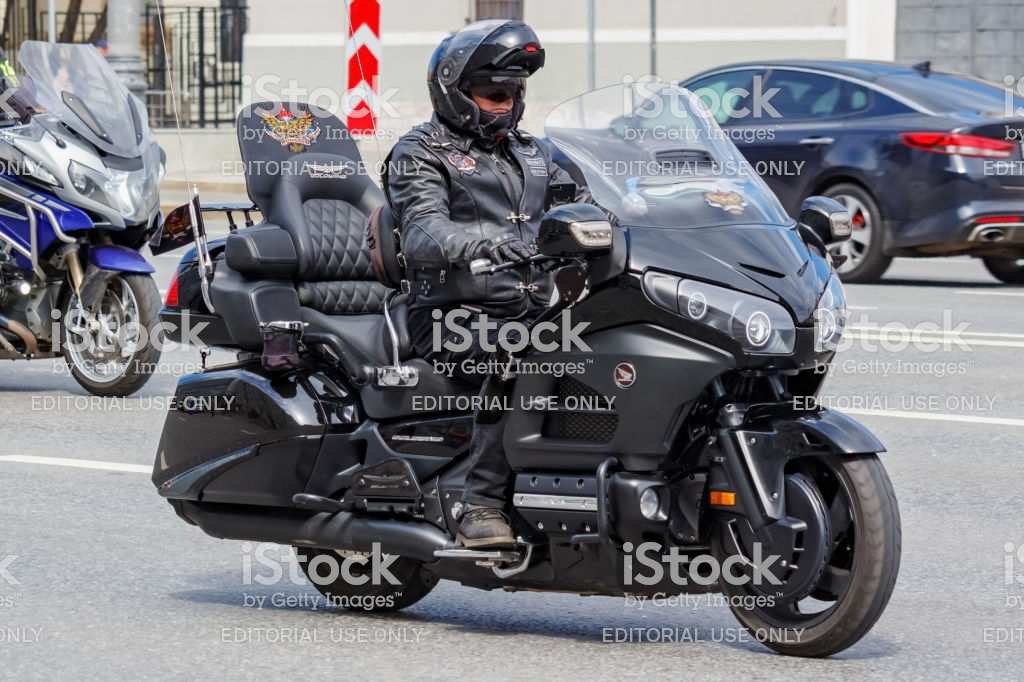helmet: (418, 17, 543, 144)
